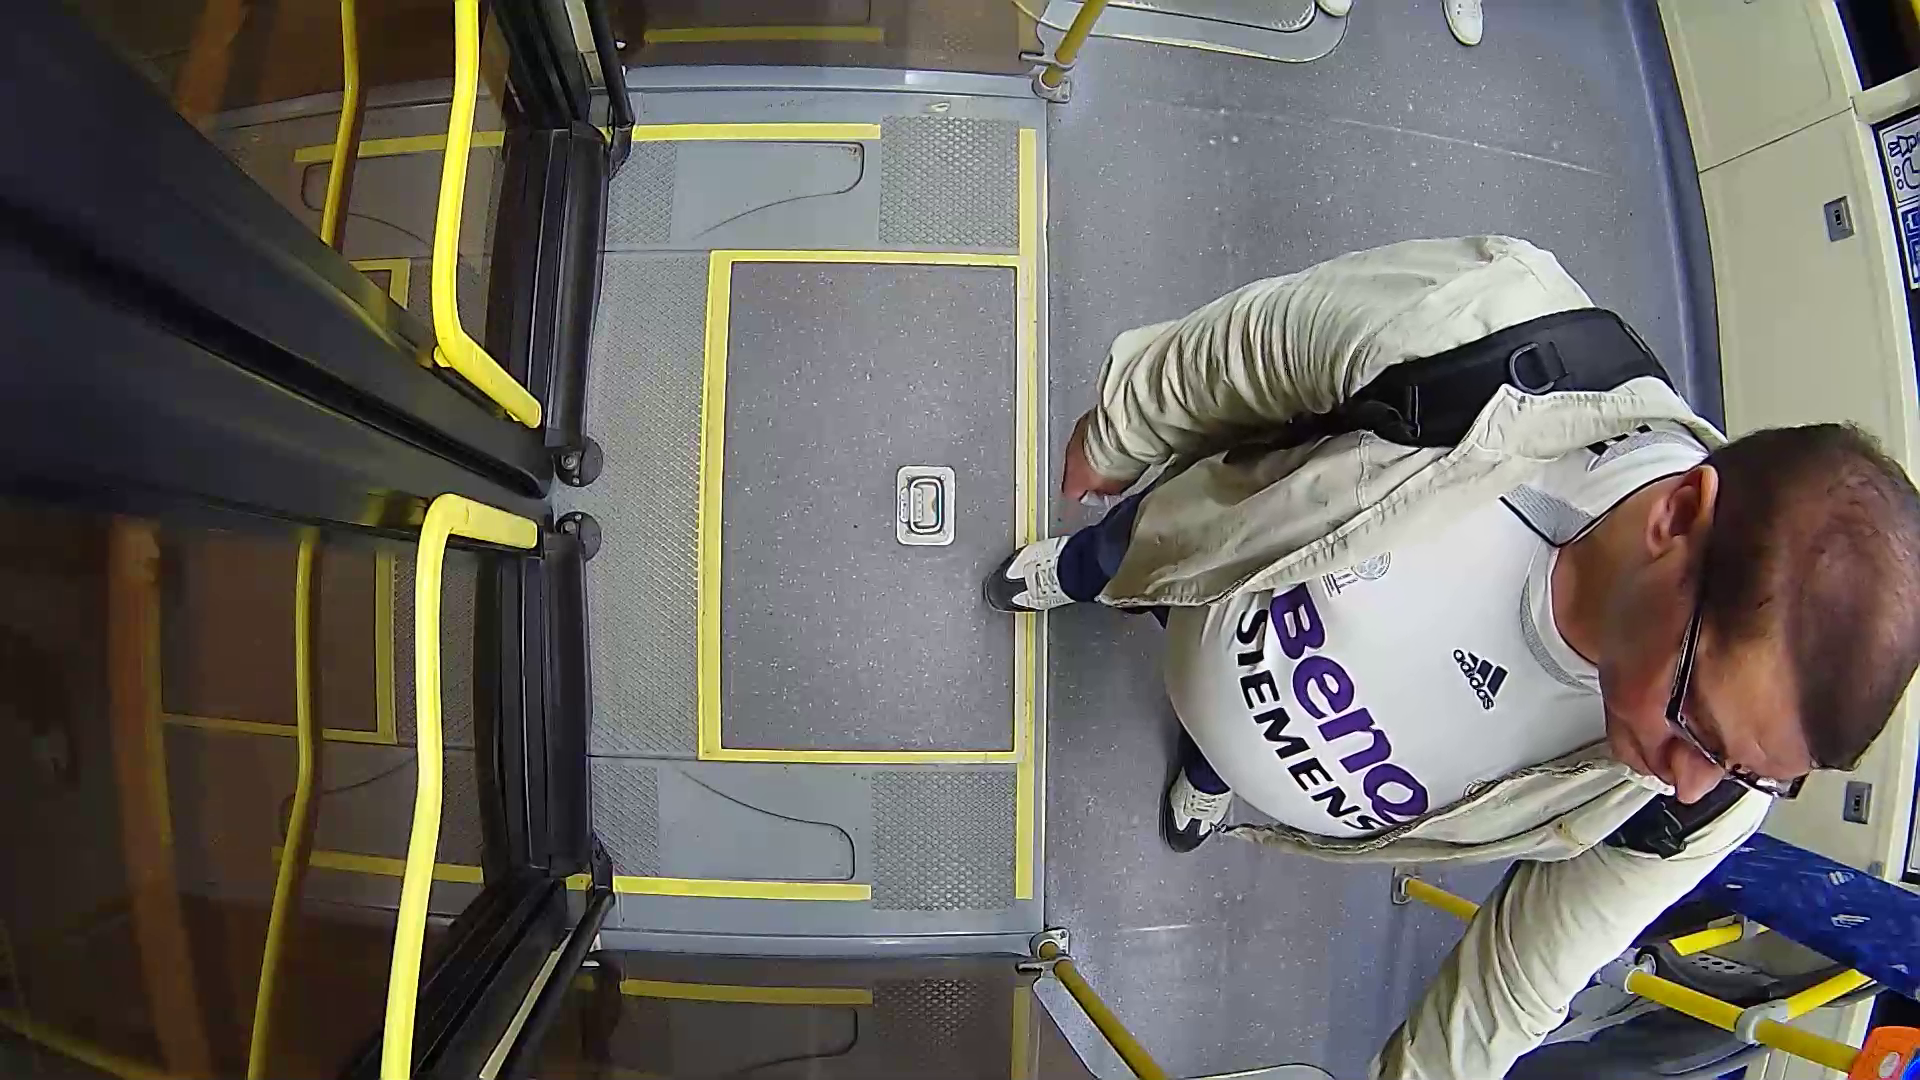person: (979, 241, 1904, 937)
